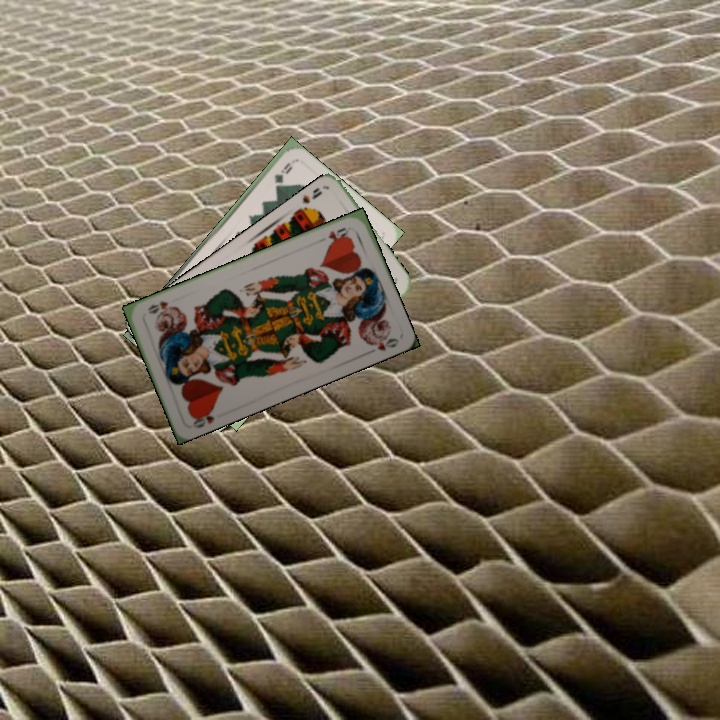G9: (270, 158, 295, 186)
HO: (187, 404, 217, 431), (324, 223, 351, 246)
S9: (293, 183, 325, 216)
